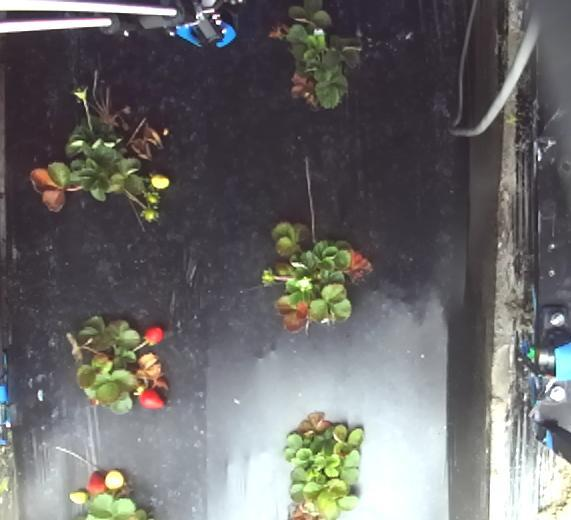mature: (138, 387, 165, 410), (86, 470, 108, 495), (143, 325, 164, 345)
